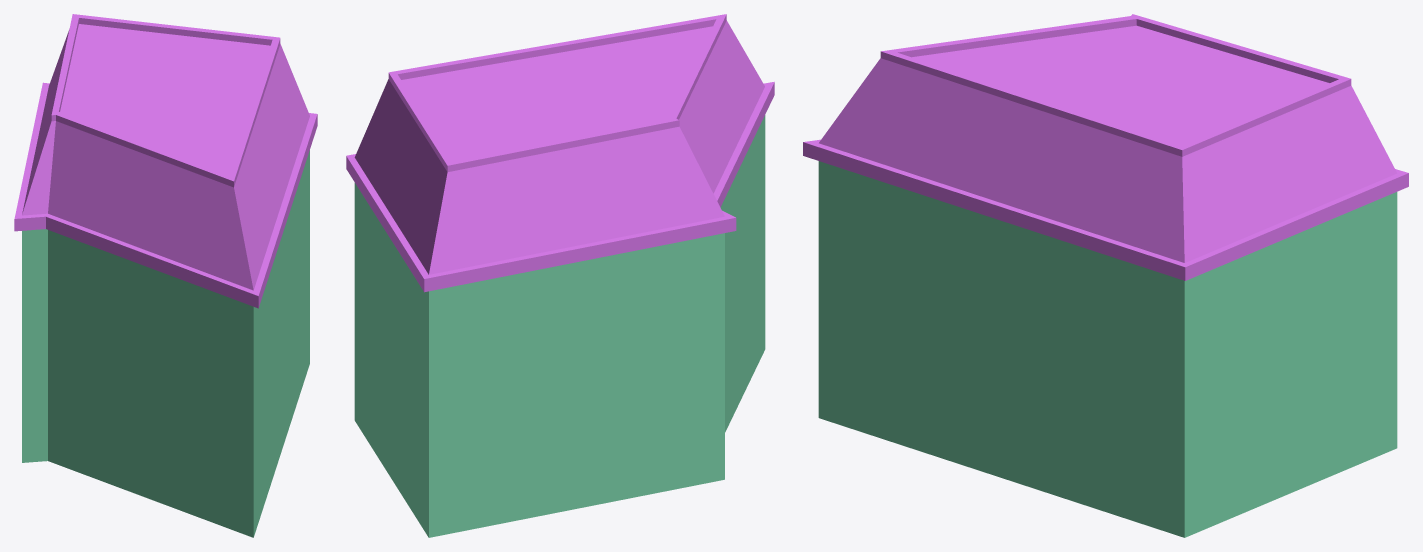
The model's file is Batiment6.fbx.
The picture shows the model from 3 angles, left to right: view 1: azimuth 30°, elevation 25°; view 2: azimuth 150°, elevation 25°; view 3: azimuth 270°, elevation 25°; orthographic projection. The views are drawn at different scales.
Parts seen in each view (by area): view 1: Batiment6; view 2: Batiment6; view 3: Batiment6.
Part boxes in pixels (x1=…): Batiment6: x1=14, y1=14, x2=317, y2=537; Batiment6: x1=346, y1=14, x2=774, y2=537; Batiment6: x1=803, y1=14, x2=1408, y2=537.
Size of the model in its own units: 34.66 by 33.03 by 48.87.
